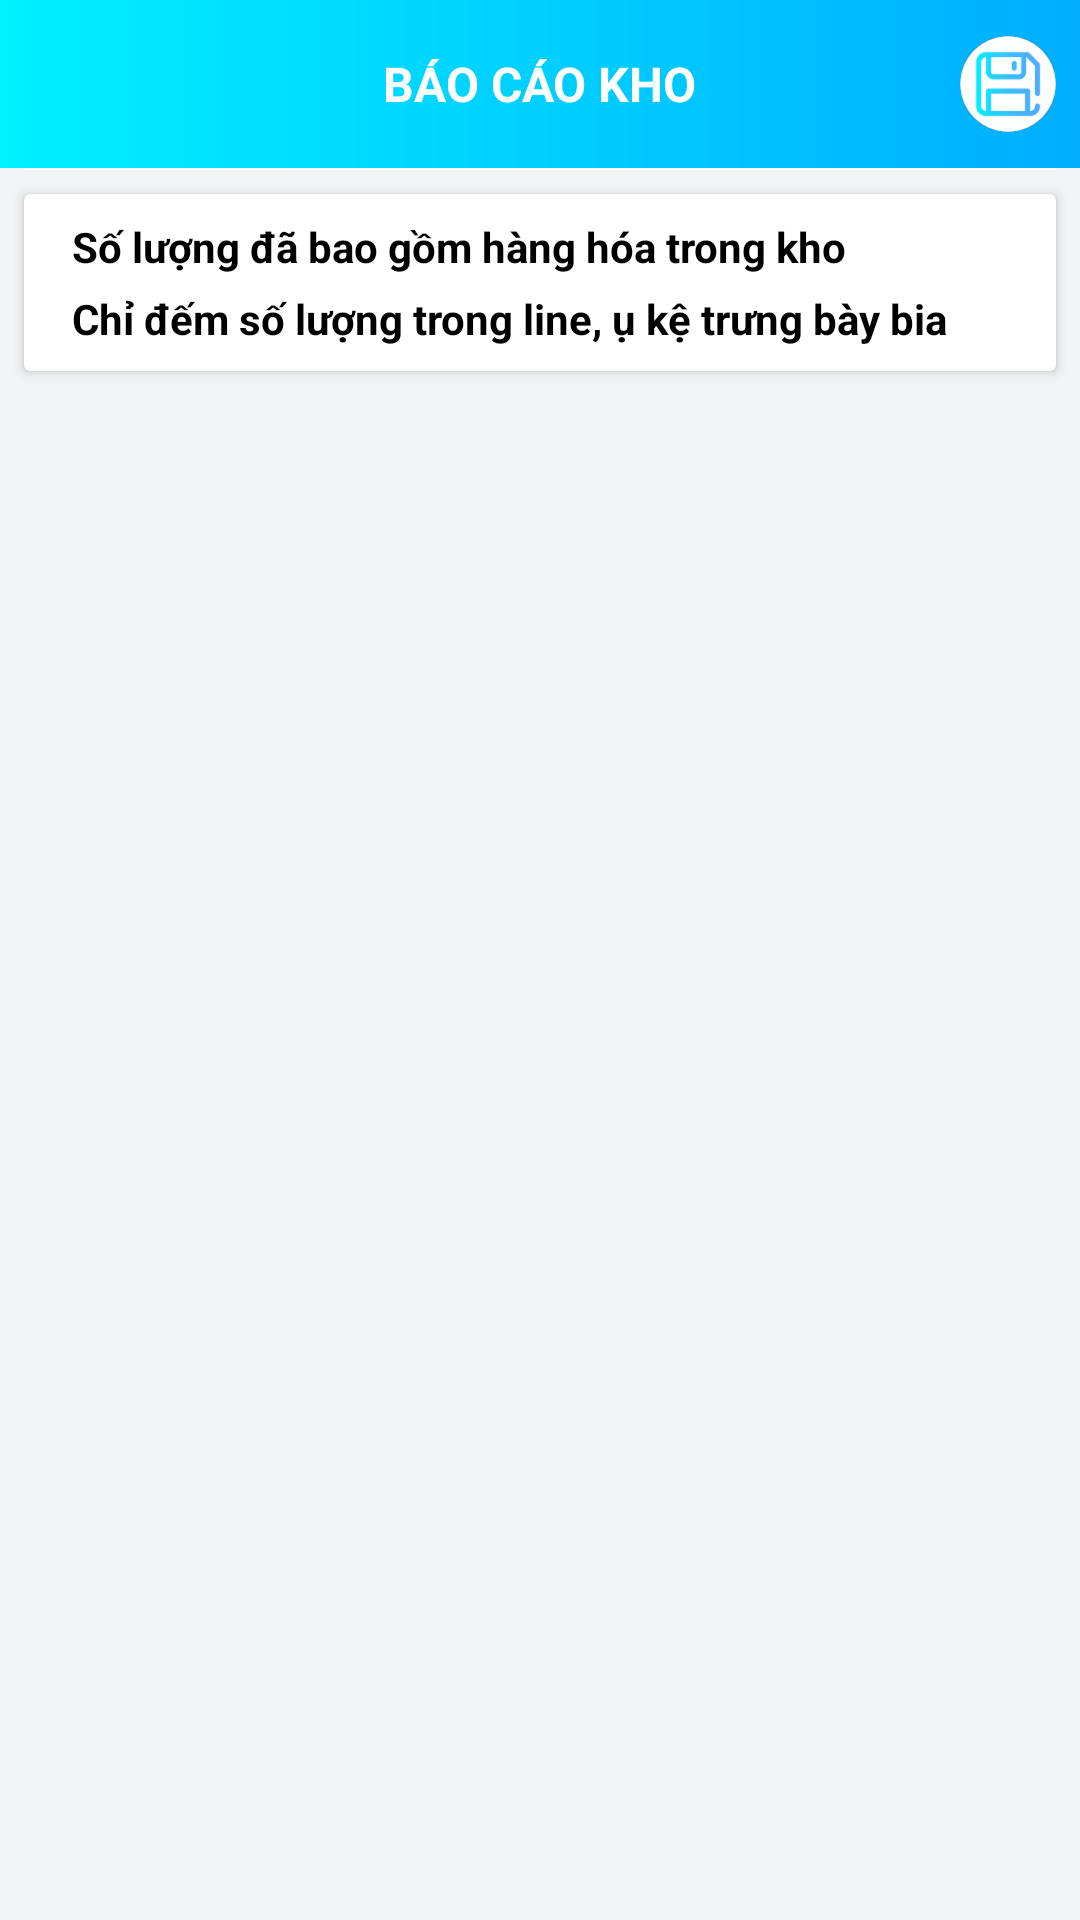

Named icons in this screenshot (1080w x 1920h) and their centers, point (x, y):
save: point (1008, 84)
